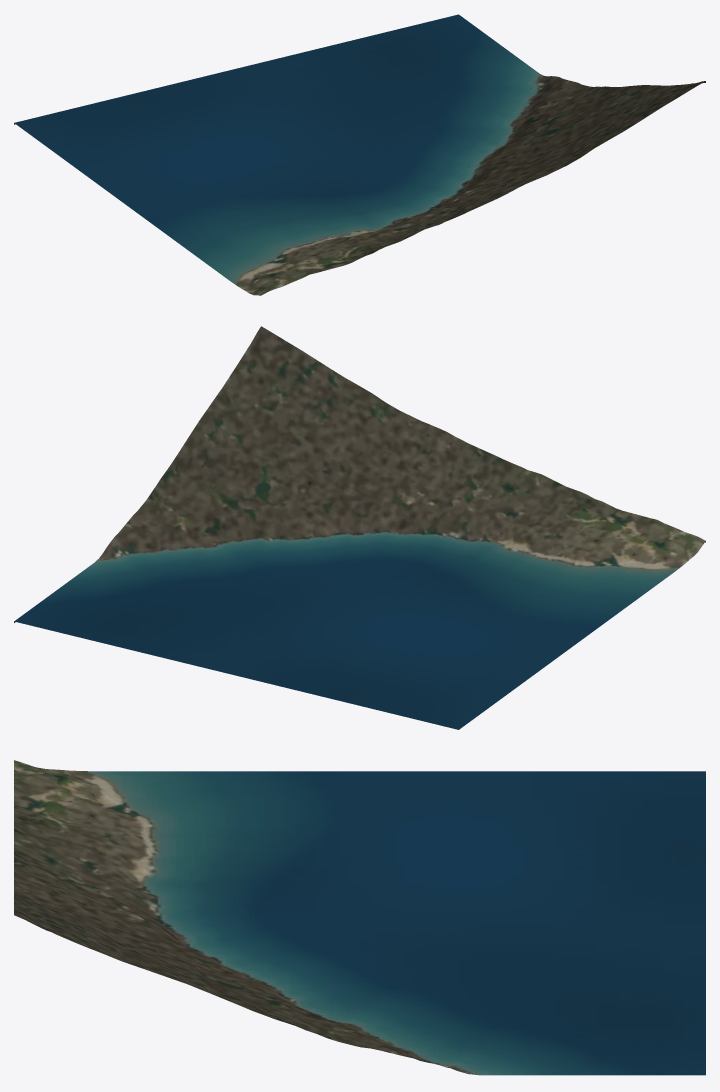
3 renders of one model, top to bottom at view 1: azimuth 30°, elevation 25°; view 2: azimuth 150°, elevation 25°; view 3: azimuth 270°, elevation 25°, orthographic. The views are drawn at different scales.
Bounding box in the file's own units: 250 × 62.46 × 241.
1 material, 1 textured.
